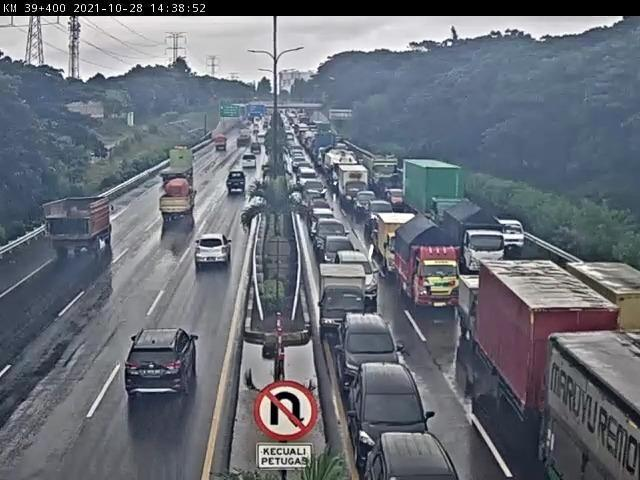bus: (256, 135, 270, 149)
car: (350, 366, 437, 465), (124, 326, 202, 402), (336, 315, 400, 399), (365, 434, 462, 480), (337, 253, 382, 303), (321, 237, 362, 278), (193, 235, 235, 272), (313, 220, 351, 259), (368, 200, 396, 232), (311, 208, 336, 238), (357, 193, 378, 218), (241, 153, 258, 170), (248, 145, 263, 161)
truck: (480, 260, 627, 447), (395, 217, 464, 314), (460, 275, 523, 352), (439, 198, 501, 273), (43, 197, 117, 257), (402, 159, 462, 228), (318, 262, 370, 338), (378, 213, 421, 278), (158, 180, 202, 226), (157, 145, 198, 186), (340, 166, 370, 208), (223, 173, 248, 198), (234, 129, 253, 150), (212, 137, 228, 154)
